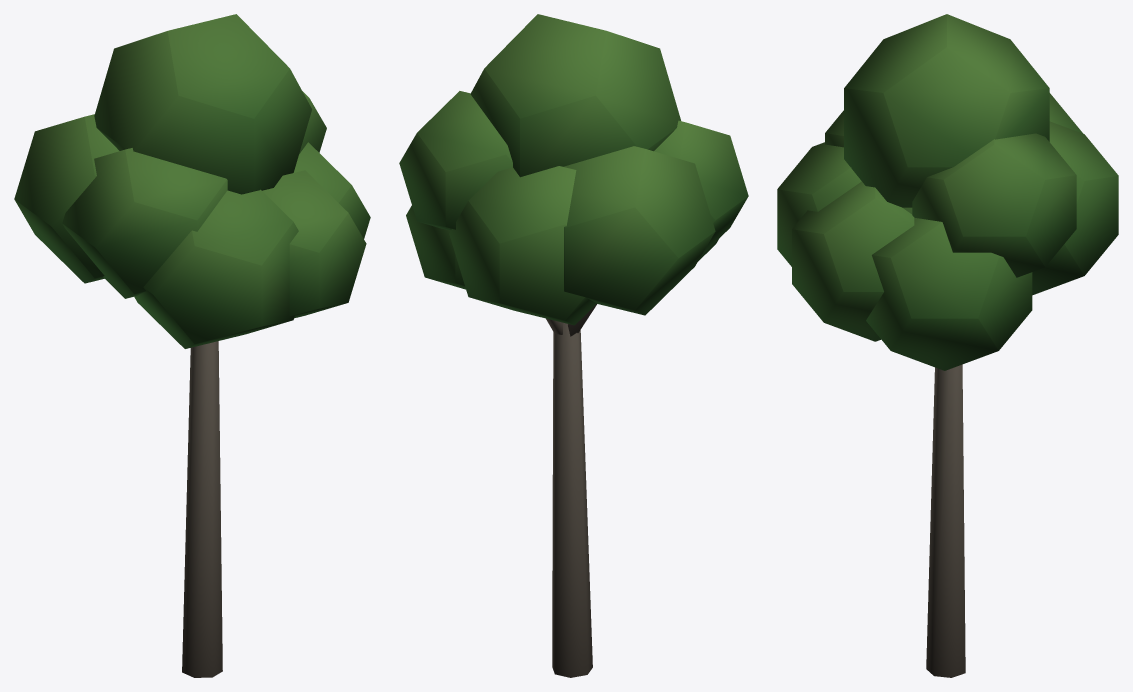
Rendered from tree_sau.glb.
The picture shows the model from 3 angles, left to right: view 1: azimuth 30°, elevation 25°; view 2: azimuth 150°, elevation 25°; view 3: azimuth 270°, elevation 25°; orthographic projection.
Visible parts, largest first — view 1: Foliage, Trunk; view 2: Foliage, Trunk; view 3: Foliage, Trunk.
Boxes of the visible parts, x1,y1,x2,y2 form: Foliage: (14,14,370,348); Trunk: (182,341,222,677); Foliage: (399,14,748,325); Trunk: (546,304,596,677); Foliage: (777,14,1118,370); Trunk: (926,364,965,677).
Size of the model in its own units: 5.24 by 10.89 by 5.28.
